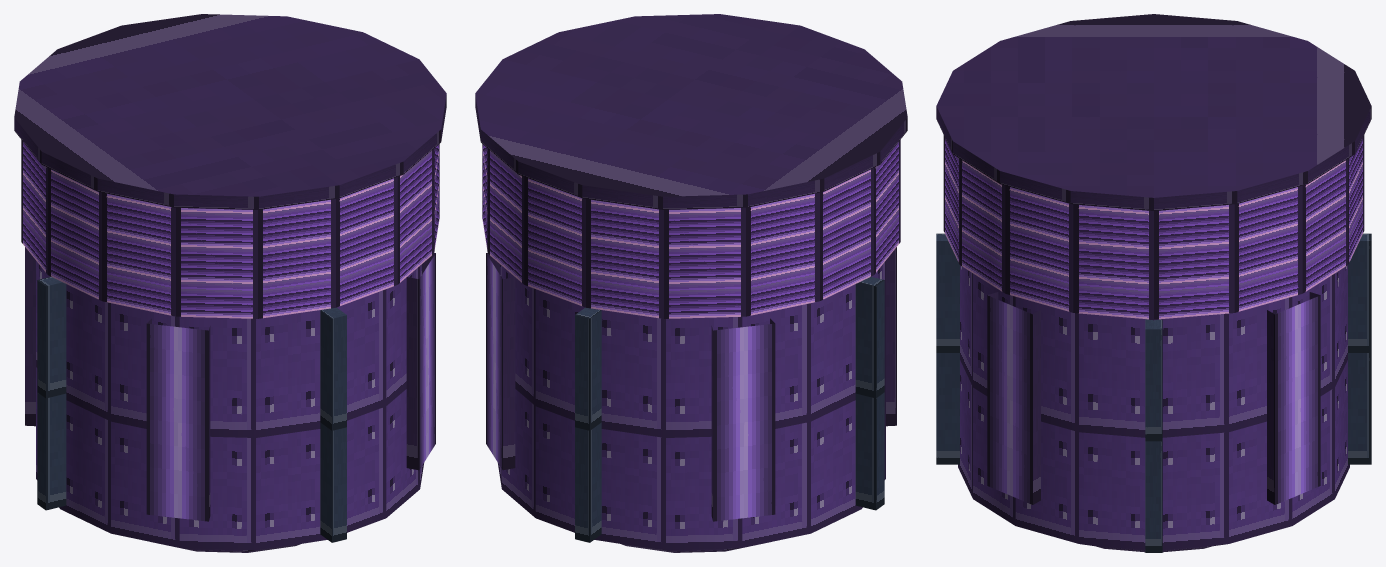
File: axial_stabilizer.obj
The picture shows the model from 3 angles, left to right: view 1: azimuth 30°, elevation 25°; view 2: azimuth 150°, elevation 25°; view 3: azimuth 270°, elevation 25°; orthographic projection.
Bounding box in the file's own units: 3 × 2.98 × 3.
